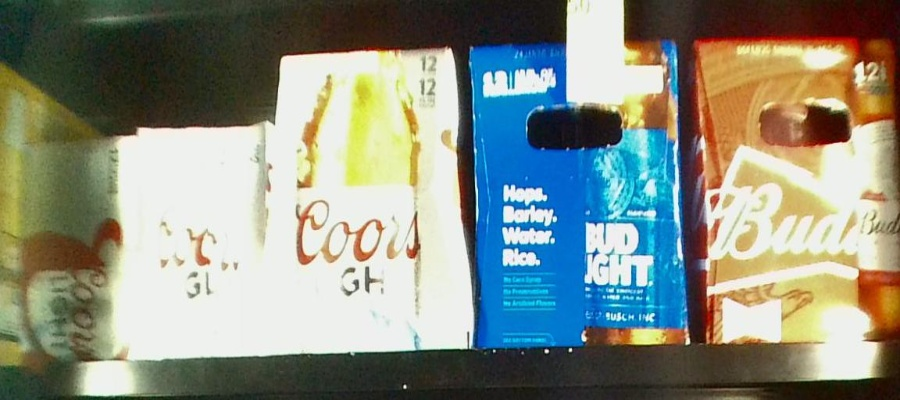bottle: (689, 32, 900, 347), (471, 41, 686, 349), (275, 54, 472, 346), (126, 128, 268, 358), (25, 144, 123, 368)
